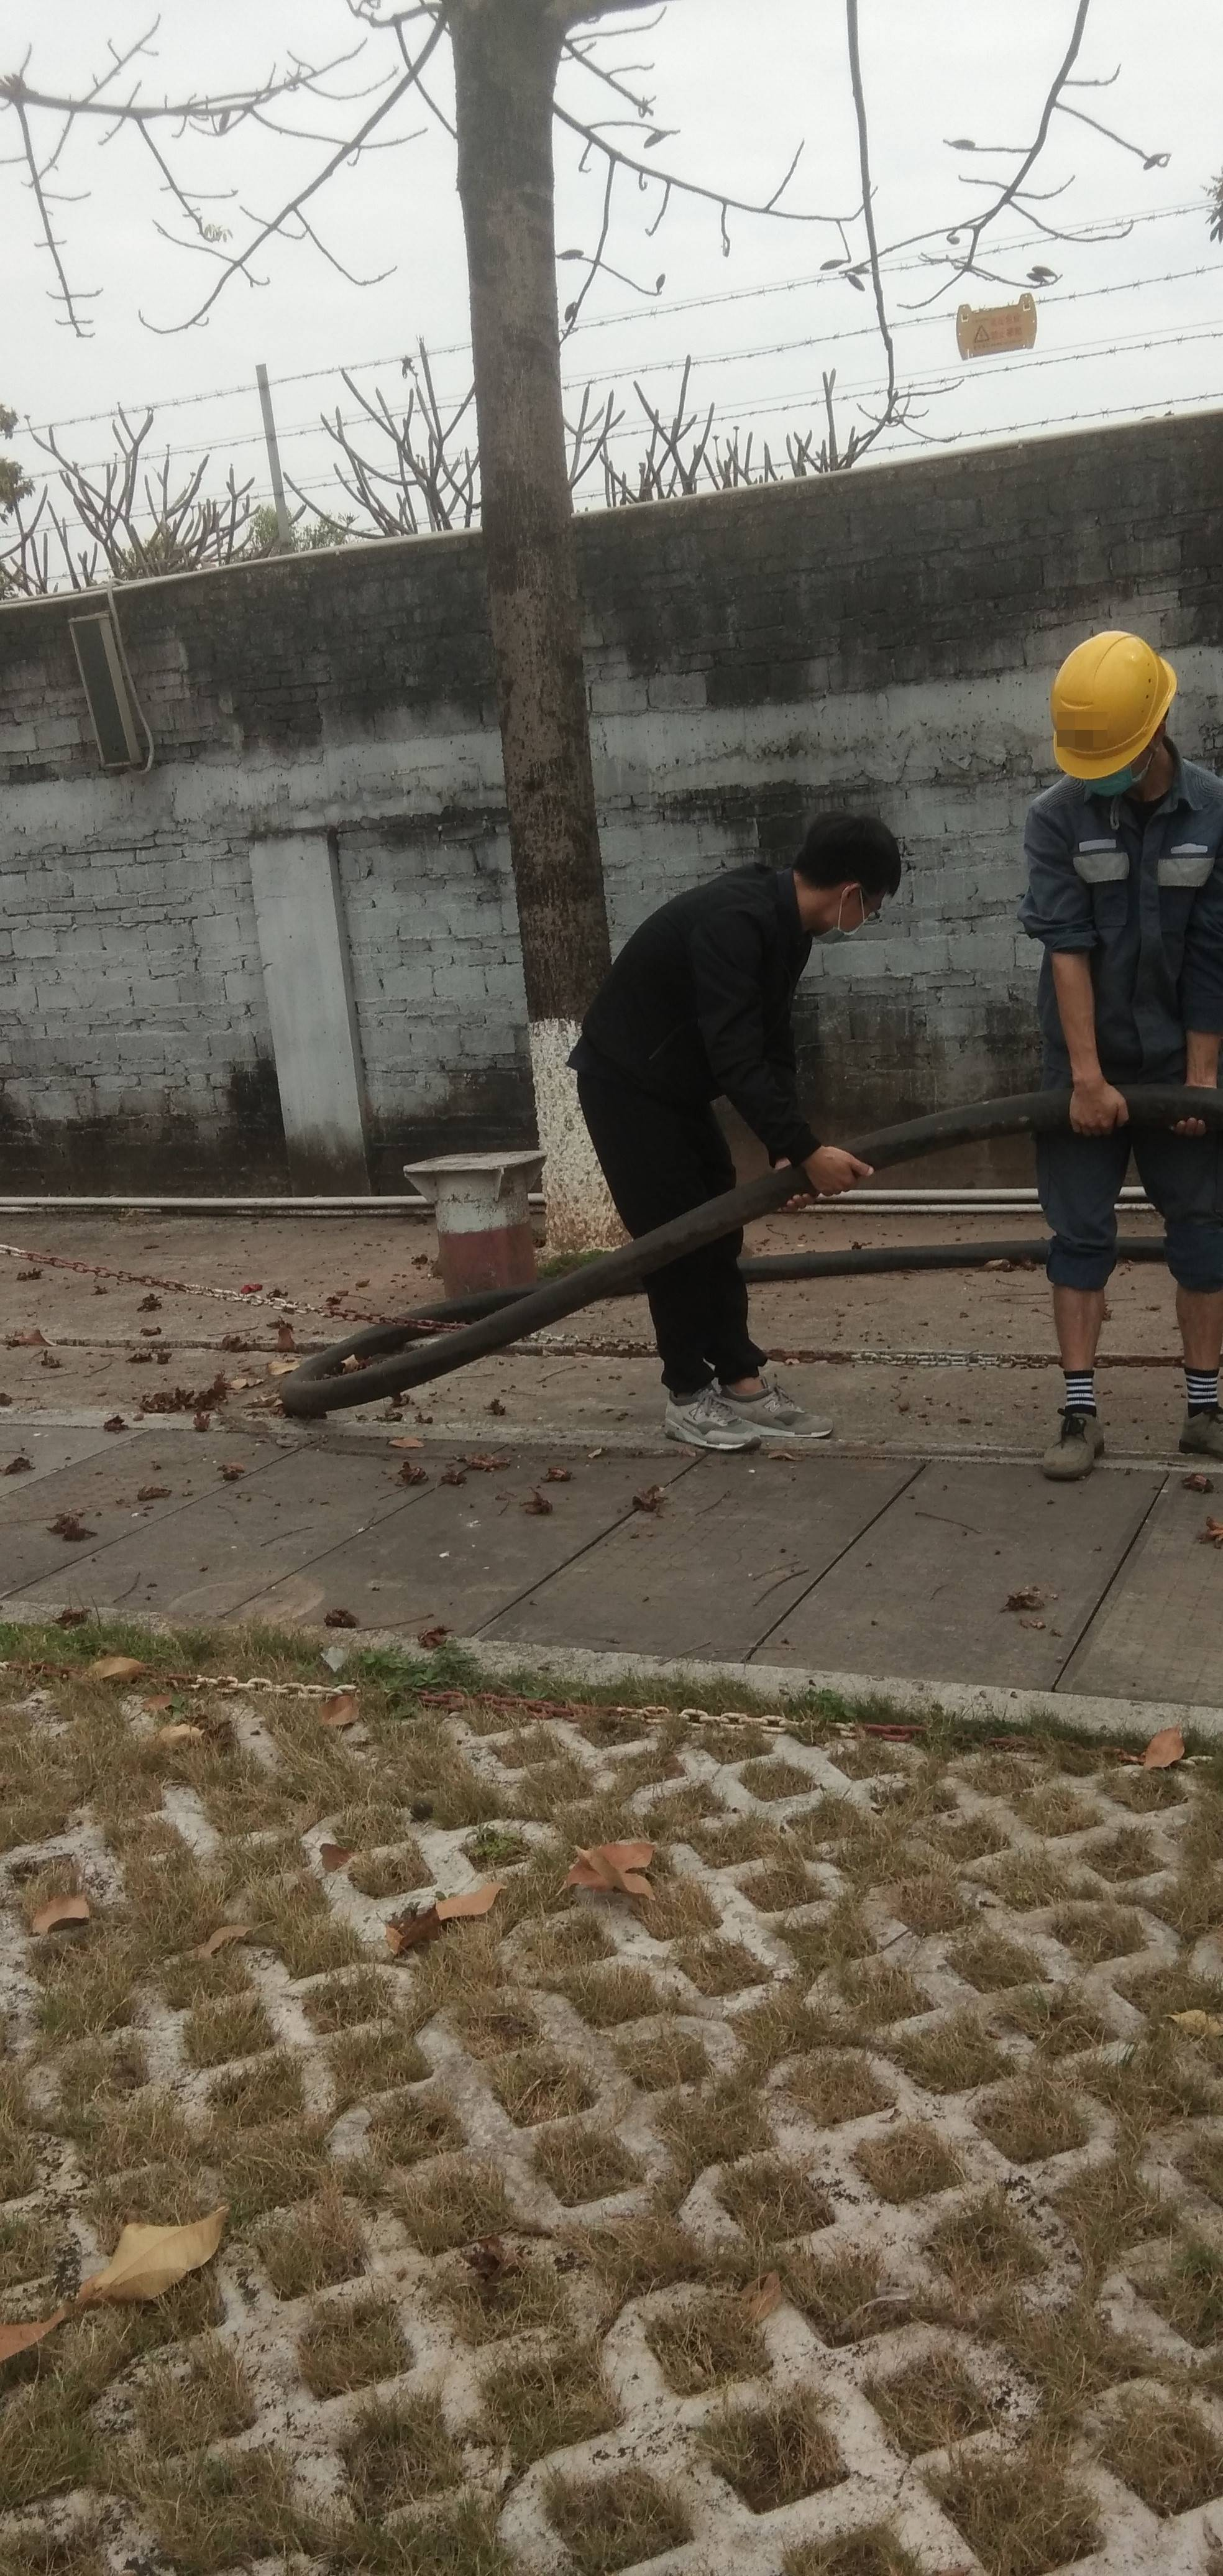downcloth: (568, 1073, 785, 1393)
downsuit: (1029, 1092, 1223, 1298)
upcloth: (583, 866, 821, 1127)
upsuit: (1018, 769, 1223, 1076)
wrongbottom: (1046, 1249, 1223, 1406)
wrongtop: (1037, 922, 1131, 1142)
